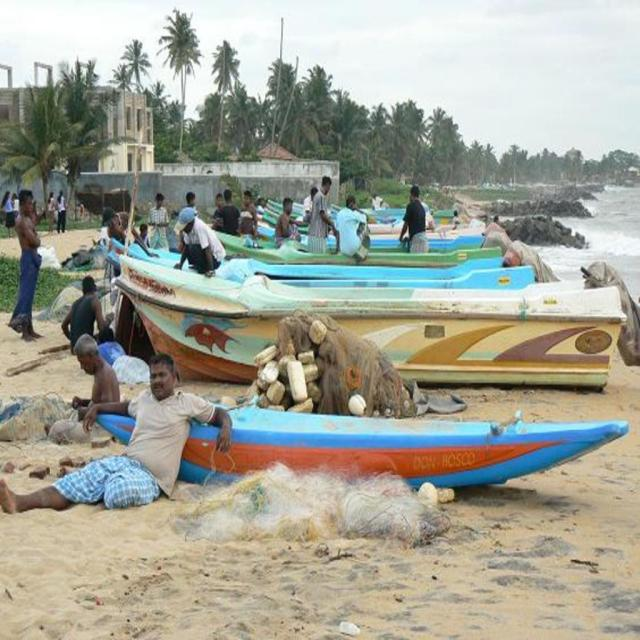Boat: (113, 250, 628, 395), (103, 374, 640, 504), (109, 231, 550, 292), (202, 221, 556, 275), (258, 189, 486, 227), (254, 214, 494, 238)
